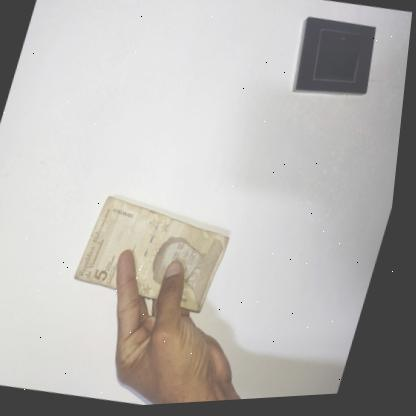five-front-vef: (72, 187, 244, 323)
